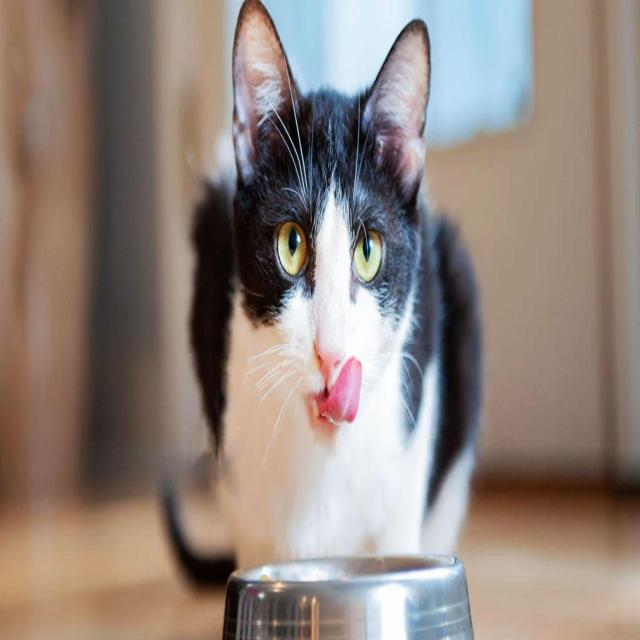Cat: (220, 1, 434, 457)
